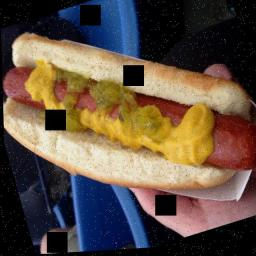hotdog: (175, 96, 256, 171), (129, 88, 216, 156), (80, 83, 160, 144), (32, 67, 112, 125), (204, 101, 256, 184), (1, 53, 63, 109)
